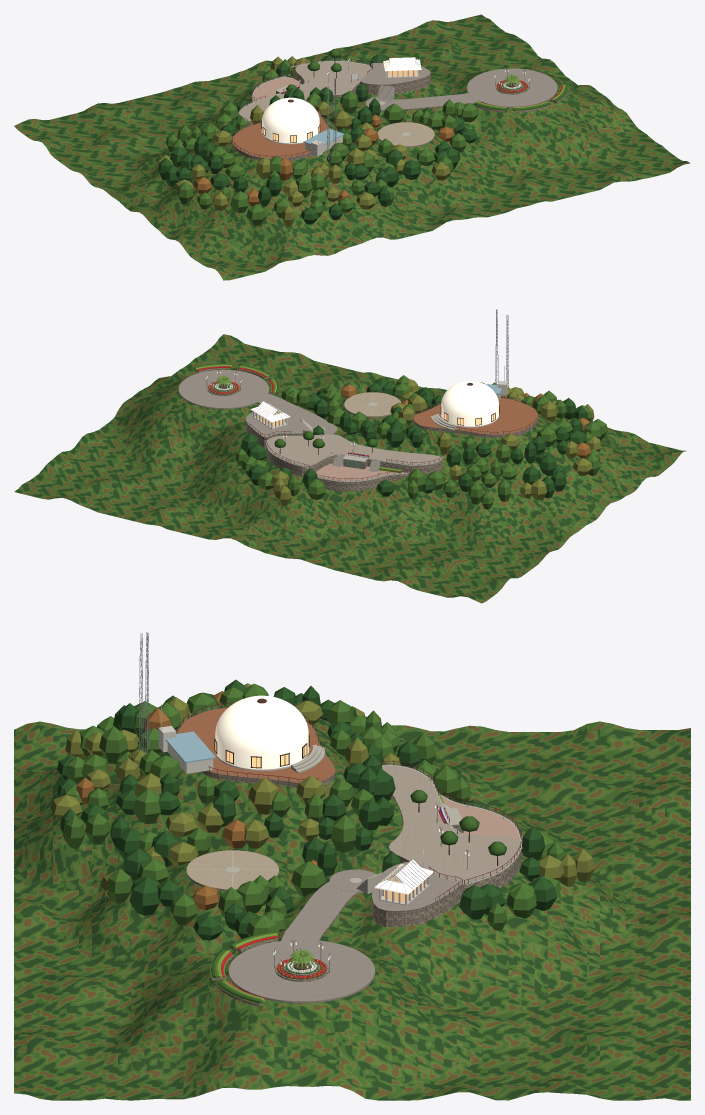
Rendered from daman_e_koh.glb.
3 views of the same model, one above another, from view 1: azimuth 30°, elevation 25°; view 2: azimuth 150°, elevation 25°; view 3: azimuth 270°, elevation 25° (orthographic). The views are drawn at different scales.
Visible parts, largest first — view 1: m_dk_hillside, m_dk_tree_b, m_dk_tree_a, m_dk_tree_c, m_dk_paver, m_dk_white, m_dk_upper, m_dk_brick, m_dk_stone, m_dk_tree_d, m_dk_circle, m_dk_leaf (+4 smaller); view 2: m_dk_hillside, m_dk_tree_b, m_dk_tree_a, m_dk_paver, m_dk_tree_c, m_dk_stone, m_dk_upper, m_dk_white, m_dk_brick, m_dk_coping, m_dk_circle, m_dk_lower (+4 smaller); view 3: m_dk_hillside, m_dk_tree_b, m_dk_tree_a, m_dk_paver, m_dk_tree_c, m_dk_upper, m_dk_white, m_dk_stone, m_dk_brick, m_dk_circle, m_dk_coping, m_dk_pillar (+6 smaller).
Part boxes in pixels (x1=…): m_dk_hillside: x1=14, y1=14, x2=690, y2=280; m_dk_tree_b: x1=166, y1=55, x2=478, y2=225; m_dk_tree_a: x1=158, y1=54, x2=477, y2=224; m_dk_tree_c: x1=157, y1=56, x2=450, y2=226; m_dk_paver: x1=360, y1=63, x2=557, y2=111; m_dk_white: x1=262, y1=57, x2=421, y2=143; m_dk_upper: x1=239, y1=61, x2=372, y2=120; m_dk_brick: x1=232, y1=111, x2=328, y2=158; m_dk_stone: x1=232, y1=65, x2=568, y2=160; m_dk_tree_d: x1=194, y1=114, x2=454, y2=206; m_dk_circle: x1=377, y1=122, x2=434, y2=146; m_dk_leaf: x1=286, y1=49, x2=568, y2=110; m_dk_hillside: x1=14, y1=334, x2=685, y2=603; m_dk_tree_b: x1=235, y1=375, x2=607, y2=509; m_dk_tree_a: x1=241, y1=377, x2=588, y2=498; m_dk_paver: x1=178, y1=369, x2=337, y2=437; m_dk_tree_c: x1=270, y1=379, x2=601, y2=505; m_dk_stone: x1=194, y1=368, x2=538, y2=491; m_dk_upper: x1=266, y1=434, x2=441, y2=466; m_dk_white: x1=250, y1=381, x2=498, y2=426; m_dk_brick: x1=413, y1=397, x2=537, y2=434; m_dk_coping: x1=265, y1=392, x2=457, y2=481; m_dk_circle: x1=344, y1=392, x2=400, y2=416; m_dk_lower: x1=316, y1=463, x2=406, y2=481; m_dk_hillside: x1=14, y1=706, x2=690, y2=1100; m_dk_tree_b: x1=62, y1=683, x2=564, y2=936; m_dk_tree_a: x1=57, y1=679, x2=557, y2=940; m_dk_paver: x1=228, y1=862, x2=462, y2=1003; m_dk_tree_c: x1=50, y1=683, x2=594, y2=900; m_dk_upper: x1=382, y1=766, x2=520, y2=884; m_dk_white: x1=215, y1=695, x2=433, y2=894; m_dk_stone: x1=186, y1=770, x2=521, y2=1006; m_dk_brick: x1=177, y1=707, x2=335, y2=783; m_dk_circle: x1=186, y1=850, x2=278, y2=889; m_dk_coping: x1=187, y1=744, x2=522, y2=893; m_dk_pillar: x1=158, y1=704, x2=431, y2=905.
Bounding box in the file's own units: 214 × 59.6 × 166.
Materials: 34 (5 with a texture image).
